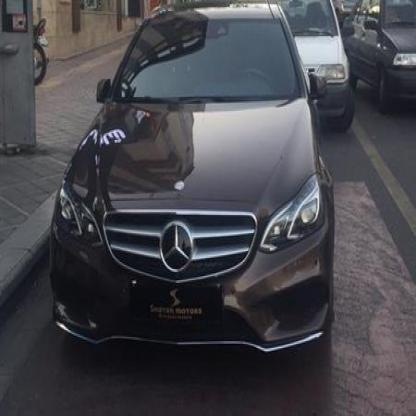Car: (51, 0, 333, 372), (286, 0, 360, 128), (348, 0, 416, 102)
